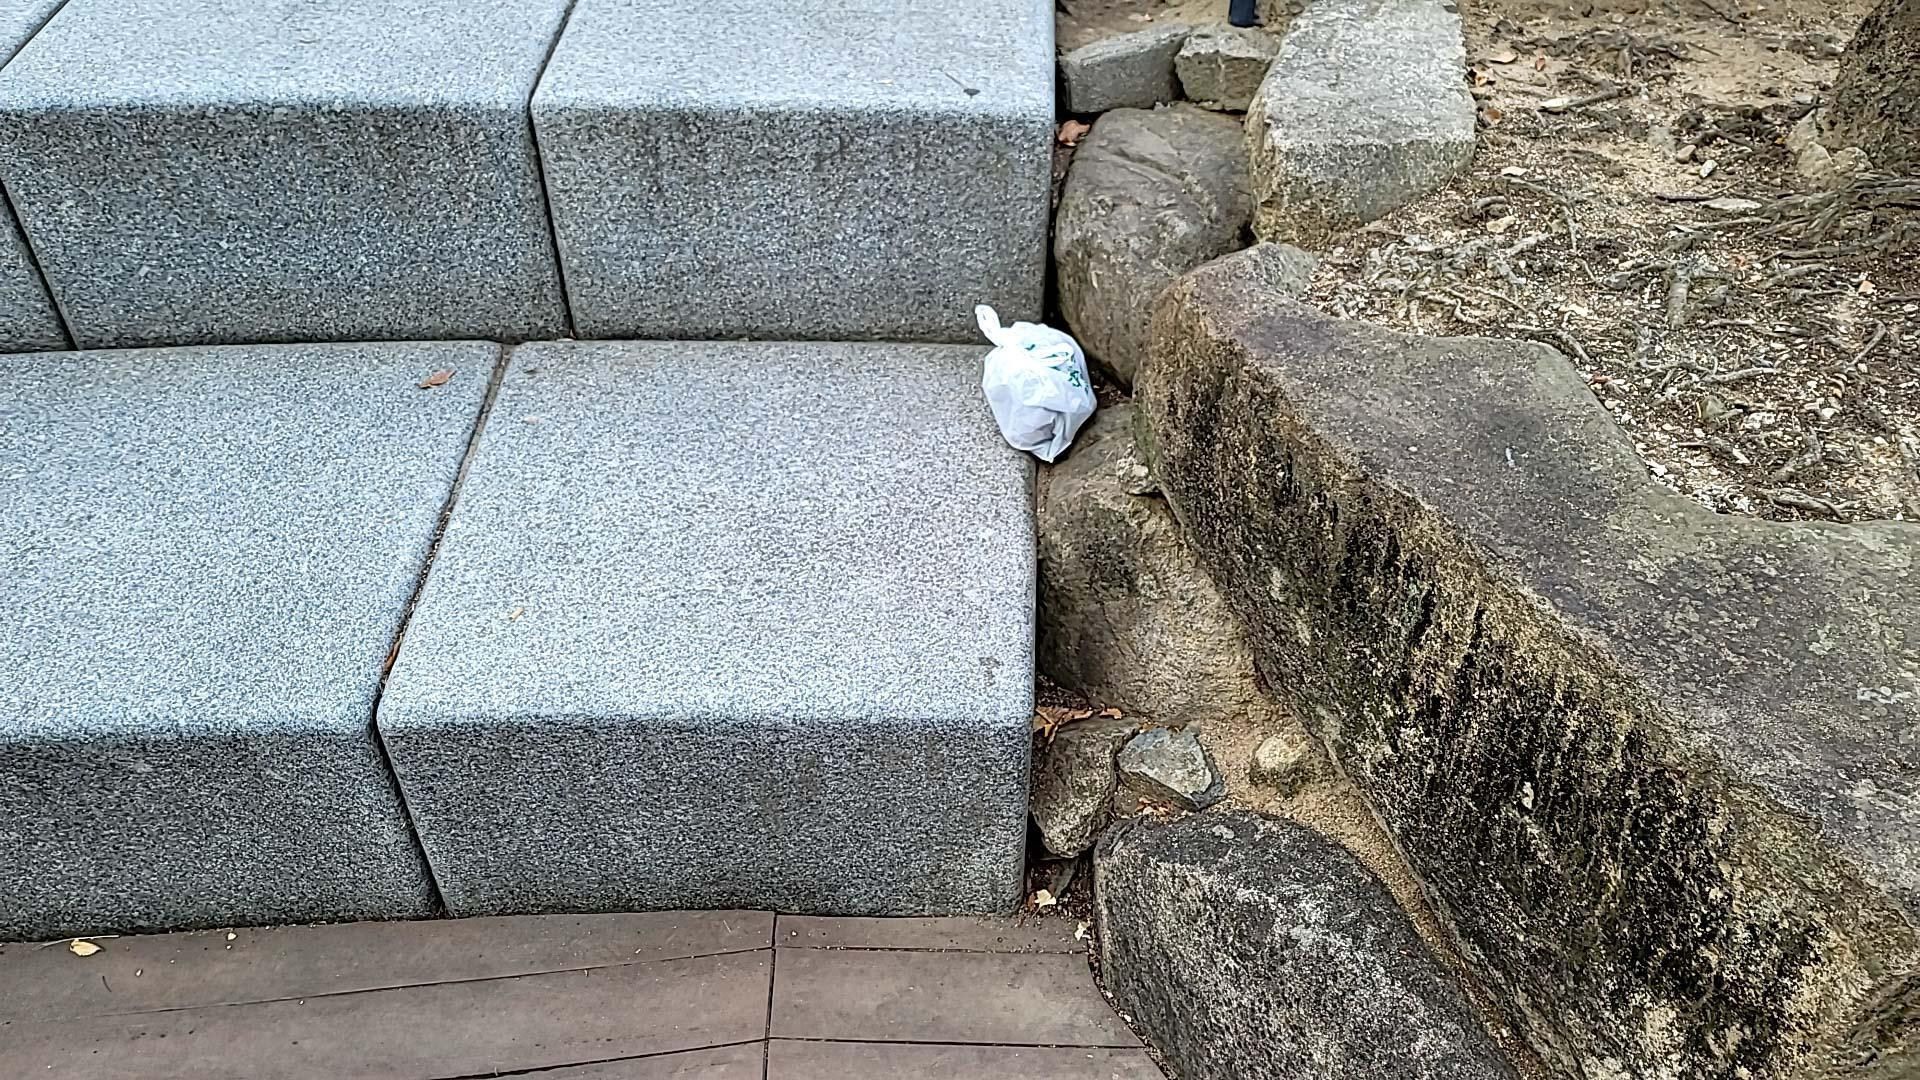white_bag: (957, 295, 1114, 475)
